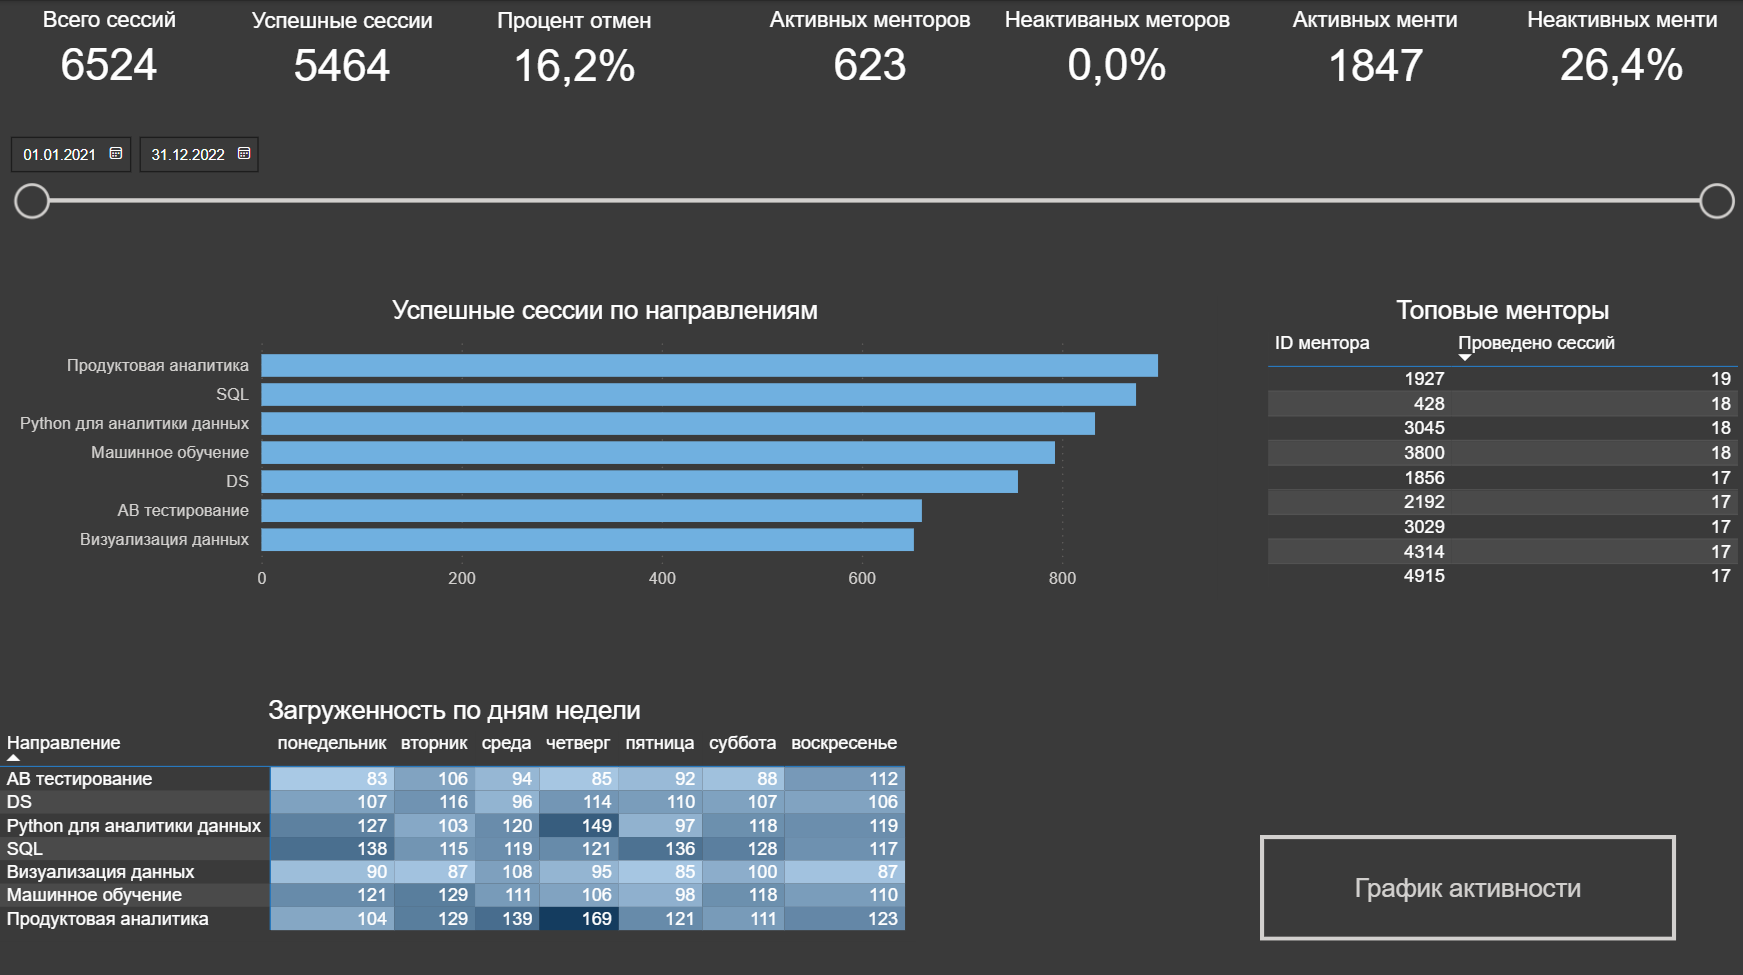

Layout of this report page (visuals, bound fields, positions):
{"tool":"powerbi","page":{"name":"Страница 1","canvas":[1280,720],"ordinal":0},"visuals":[{"type":"card","title":"Всего сессий","fields":{"Values":["Metrics.Total Sessions"]},"box":[0,0,170,64.7],"z":0},{"type":"card","title":"Успешные сессии","fields":{"Values":["Metrics.Finished Sessions"]},"box":[169.9,0.7,169.9,64.7],"z":1000},{"type":"card","title":"Процент отмен","fields":{"Values":["Metrics.Cancel Rate"]},"box":[339.9,0.7,169.9,64.7],"z":2000},{"type":"clusteredBarChart","title":"Успешные сессии по направлениям","fields":{"Category":["domain.name"],"Y":["Metrics.Finished_Sessions"]},"box":[0,215.5,893.8,222.2],"z":3000},{"type":"slicer","fields":{"Values":["Calendar.Date"]},"box":[0,89,1280,88.3],"z":4000},{"type":"card","title":"Неактиваных меторов","fields":{"Values":["Metrics.Inactive_Mentors_%"]},"box":[731,0,180.2,64.7],"z":5000},{"type":"card","title":"Неактивных менти","fields":{"Values":["Metrics.Inactive_Mentees_%"]},"box":[1097.2,0,180.2,64],"z":6000},{"type":"card","title":"Активных менторов","fields":{"Values":["Metrics.Active_Mentors"]},"box":[550.8,0,180.2,64.7],"z":7000},{"type":"card","title":"Активных менти","fields":{"Values":["Metrics.Active_Mentee"]},"box":[916.9,0,180.2,65.5],"z":8000},{"type":"tableEx","title":"Топовые менторы","fields":{"Values":["sessions.mentor_id","Metrics.Finished_Sessions"]},"box":[925.4,215.5,354.6,393.6],"z":9000},{"type":"pivotTable","title":"Загруженность по дням недели","fields":{"Rows":["domain.name"],"Columns":["Calendar.Day of Week"],"Values":["Metrics.Finished_Sessions"]},"box":[0,507.6,673.8,178.8],"z":10000},{"type":"actionButton","box":[925.4,609.1,303.8,77.2],"z":11000}]}

Visuals, with their boxes in screenshot pixels (x1, y1, x2, y2), scaled from the page's 1280x720 canvas onto the 1743x975 screenshot:
"Всего сессий" card: 0 0 231 88
"Успешные сессии" card: 231 1 463 89
"Процент отмен" card: 463 1 694 89
"Успешные сессии по направлениям" clusteredBarChart: 0 292 1217 593
slicer - Calendar.Date: 0 121 1742 240
"Неактиваных меторов" card: 995 0 1241 88
"Неактивных менти" card: 1494 0 1739 87
"Активных менторов" card: 750 0 995 88
"Активных менти" card: 1249 0 1494 89
"Топовые менторы" tableEx: 1260 292 1742 825
"Загруженность по дням недели" pivotTable: 0 687 918 930
actionButton: 1260 825 1674 929
